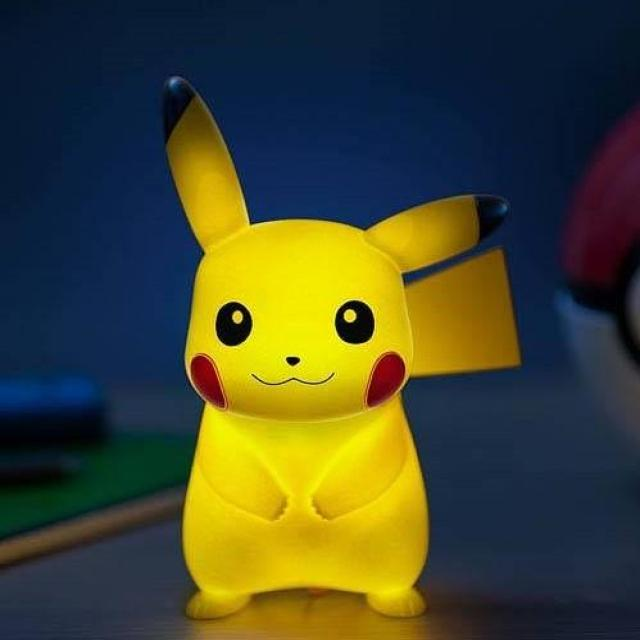pikachu: (166, 75, 520, 620)
